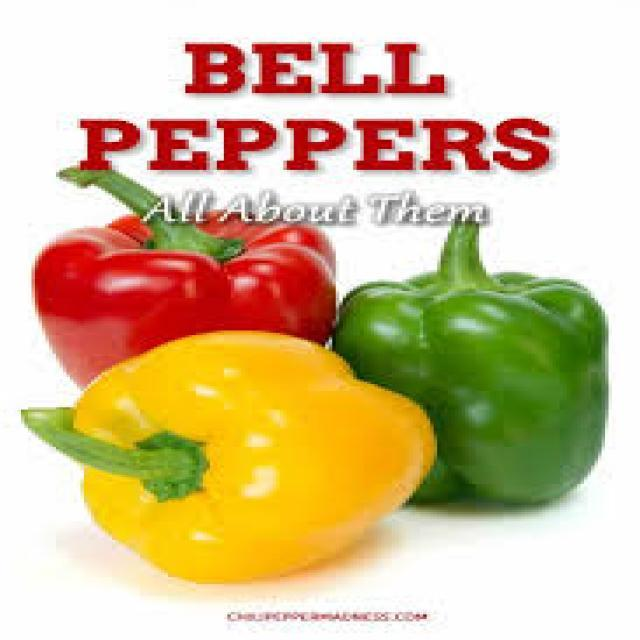Pepper: (18, 327, 439, 586), (330, 223, 611, 509), (31, 218, 338, 392)
